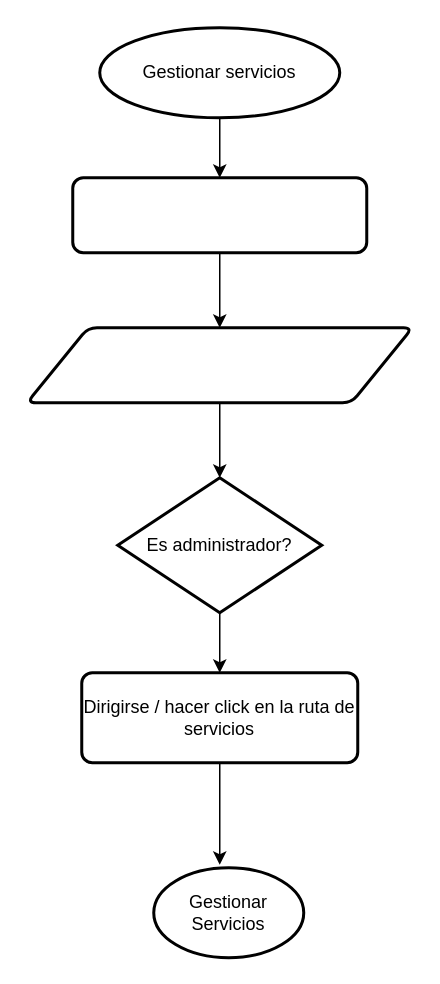
This 440x984 diagram has some shape labels left out. The centre of each missing label's shape, as x and y in pixels:
Dirigirse a la URL indicada para usuarios: point 219,215
Ingresar a la aplicación con usuario y contraseña: point 219,365
